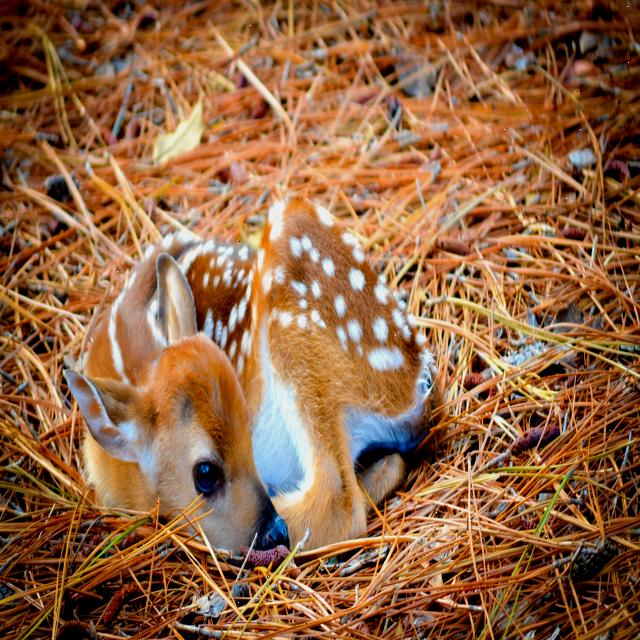deer: (35, 167, 455, 596)
